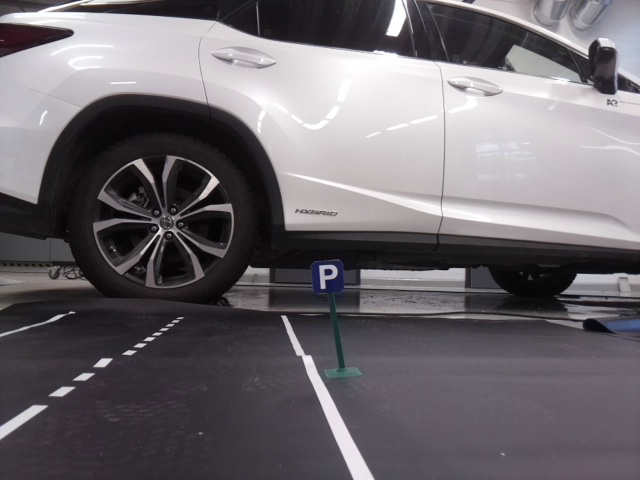Parking: (308, 261, 345, 291)
